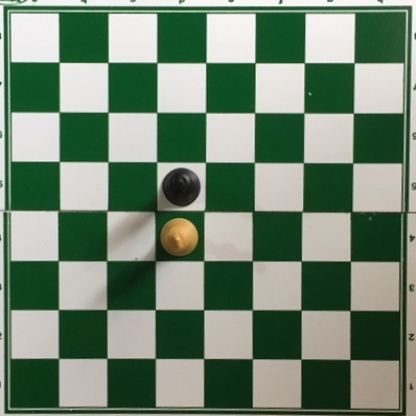black-king: (163, 165, 200, 205)
white-king: (159, 216, 200, 258)
